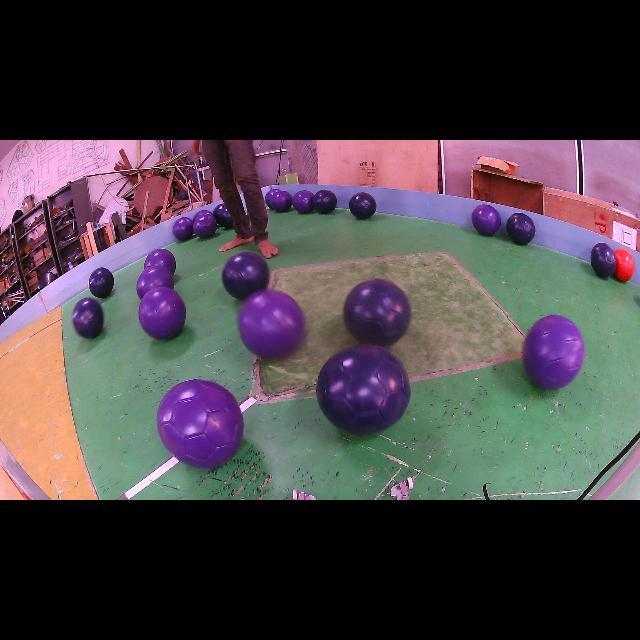B: (316, 344, 410, 434), (344, 279, 411, 346), (222, 251, 270, 299), (71, 298, 104, 338), (506, 212, 535, 245), (590, 242, 616, 278), (89, 268, 114, 298), (349, 192, 376, 219), (312, 190, 338, 214), (212, 204, 234, 229)
P: (156, 380, 244, 469), (522, 315, 585, 390), (238, 289, 304, 358), (139, 286, 186, 339), (136, 266, 174, 299), (471, 205, 501, 236), (144, 249, 176, 275), (192, 215, 216, 239), (292, 190, 314, 214), (172, 218, 194, 240), (271, 190, 292, 212), (265, 189, 279, 209), (192, 210, 212, 219)
R: (615, 249, 635, 281)
